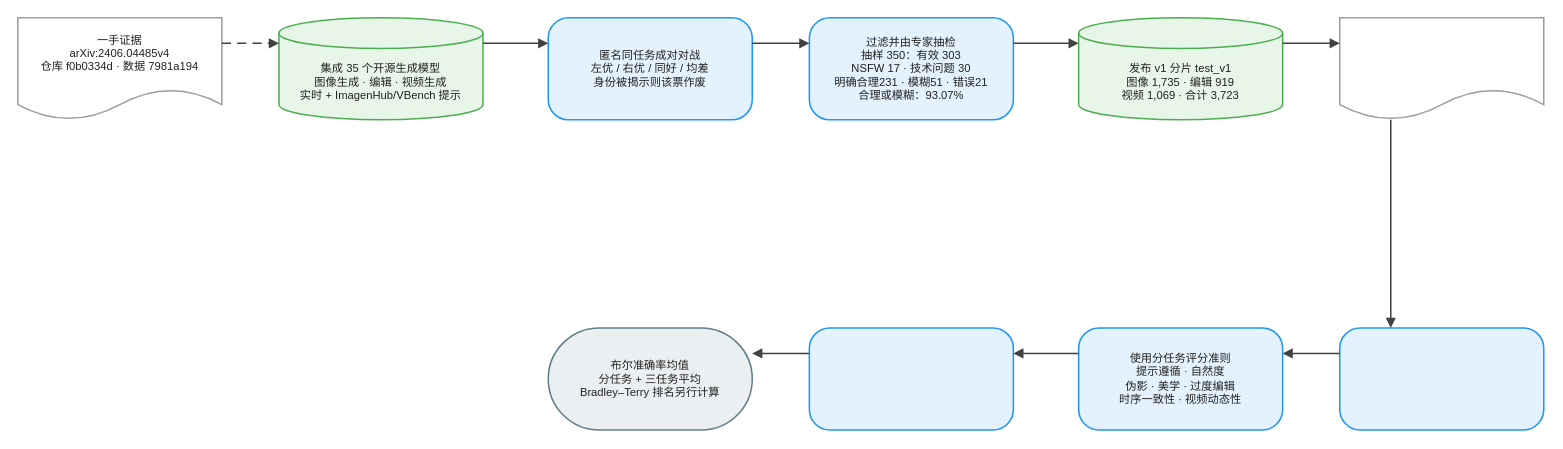
Some shapes in this 1563 by 449 pixel diagram are drawn without their labels. The shapes that lost their labels are listed below. From the top down, each one's centre as x and y in pixels, then its label:
At point (1441, 68): "后续 test 分片单独处理 3,192 + 983 + 1,911 = 6,086 官方代码固定加载 test_v1 两个版本不可合并".
At point (911, 378): "解析首个贪婪 [[.*]] 匹配 接受 A>>B/A>B 与 B>>A/B>A 同好：A=B 或 A=B=Good 均差：A=B 或 A=B=Bad".
At point (1441, 378): "组装多模态裁判输入 提示 + 输出 A + 输出 B 视频最多取 8 帧 视频原生输入或采样帧输入".
